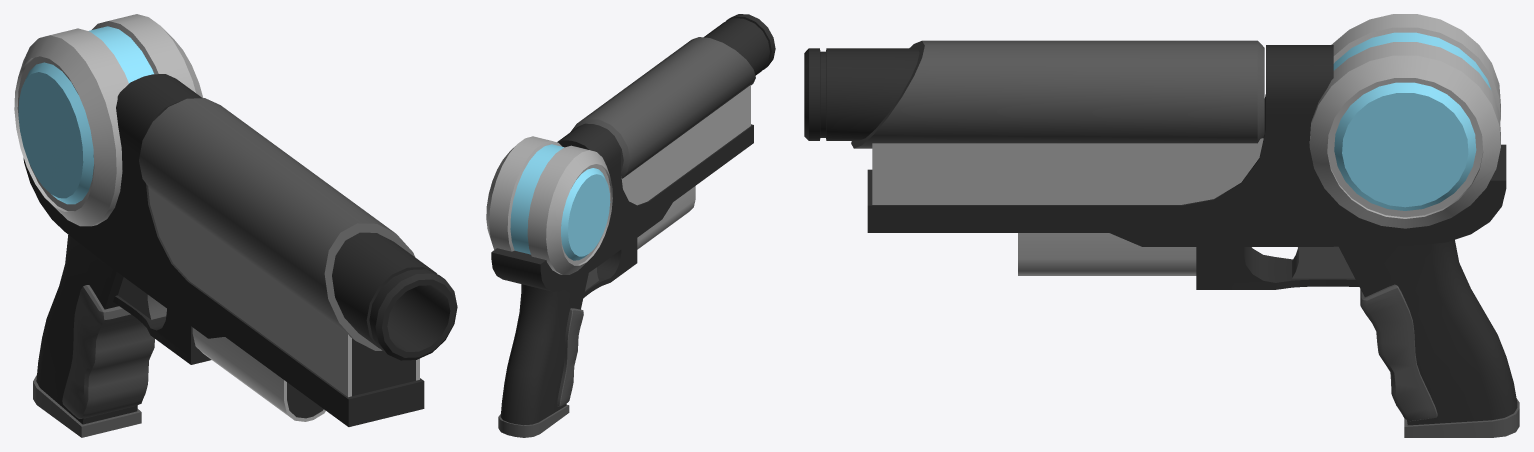
Rendered from freeze_ray.glb.
The picture shows the model from 3 angles, left to right: view 1: azimuth 30°, elevation 25°; view 2: azimuth 150°, elevation 25°; view 3: azimuth 270°, elevation 25°; orthographic projection. The views are drawn at different scales.
Visible parts, largest first — view 1: Cube.074; view 2: Cube.074; view 3: Cube.074.
Boxes of the visible parts, <box> form: Cube.074: <box>14,14,457,437</box>; Cube.074: <box>486,14,775,437</box>; Cube.074: <box>804,14,1519,437</box>.
Bounding box in the file's own units: 0.0839 × 0.2639 × 0.44.
